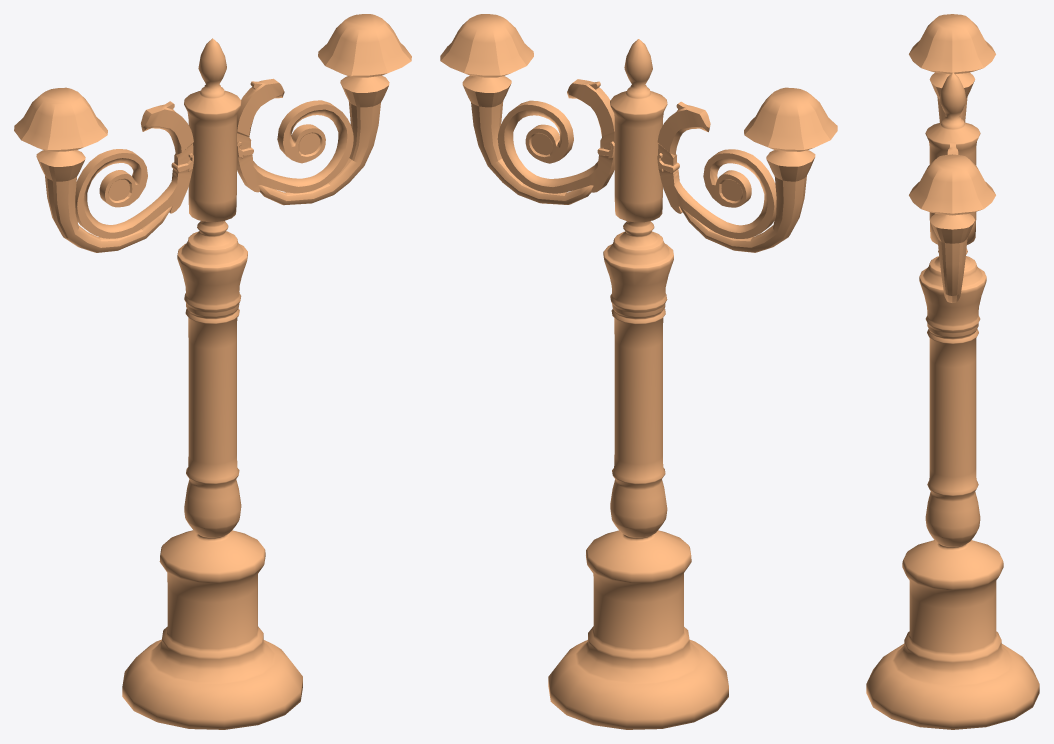
Rendered from Chandleabra.fbx.
The picture shows the model from 3 angles, left to right: view 1: azimuth 30°, elevation 25°; view 2: azimuth 150°, elevation 25°; view 3: azimuth 270°, elevation 25°; orthographic projection. The views are drawn at different scales.
Visible parts, largest first — view 1: NurbsPath, BézierCurve.001, BézierCurve; view 2: NurbsPath, BézierCurve.001, BézierCurve; view 3: NurbsPath, BézierCurve.001.
Part boxes in pixels (box(x1,y1,x2,y2)): NurbsPath: box(122, 38, 302, 729); BézierCurve.001: box(14, 14, 411, 252); BézierCurve: box(75, 78, 353, 238); NurbsPath: box(548, 39, 728, 729); BézierCurve.001: box(440, 14, 837, 252); BézierCurve: box(497, 79, 776, 238); NurbsPath: box(866, 72, 1039, 729); BézierCurve.001: box(909, 14, 995, 302).
Size of the model in its own units: 2.17 by 3.53 by 0.892.
